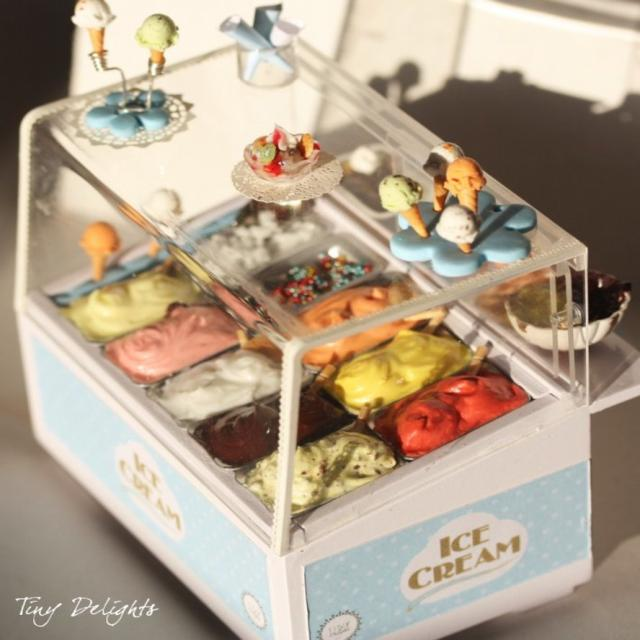Box: (16, 29, 597, 639)
